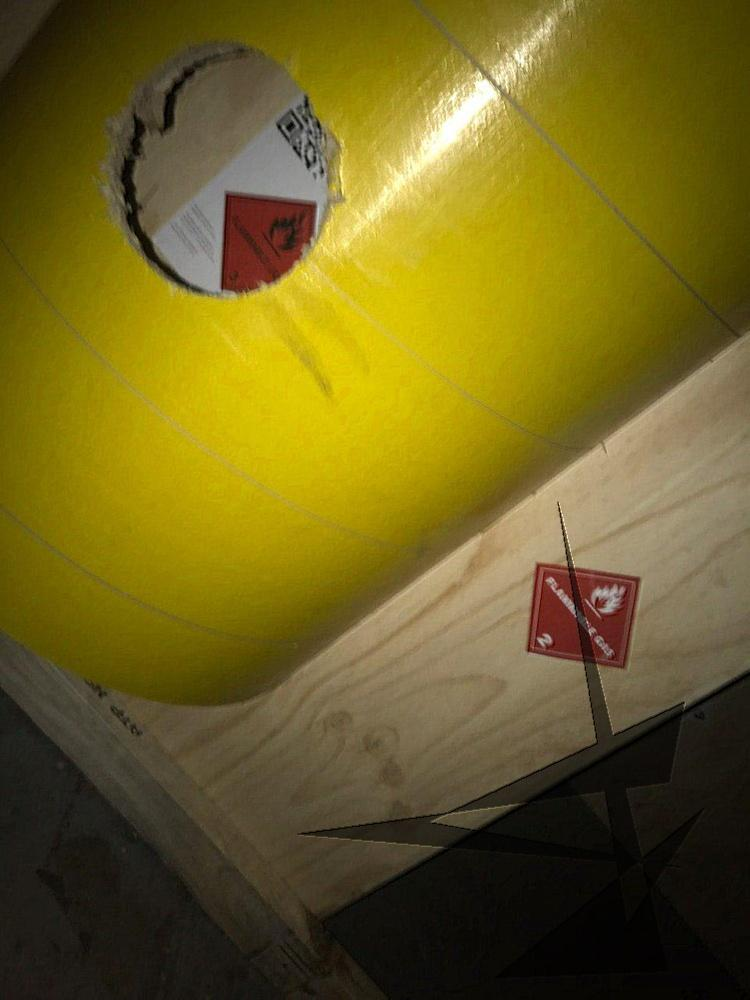flammable: (527, 561, 646, 670), (220, 193, 321, 294)
